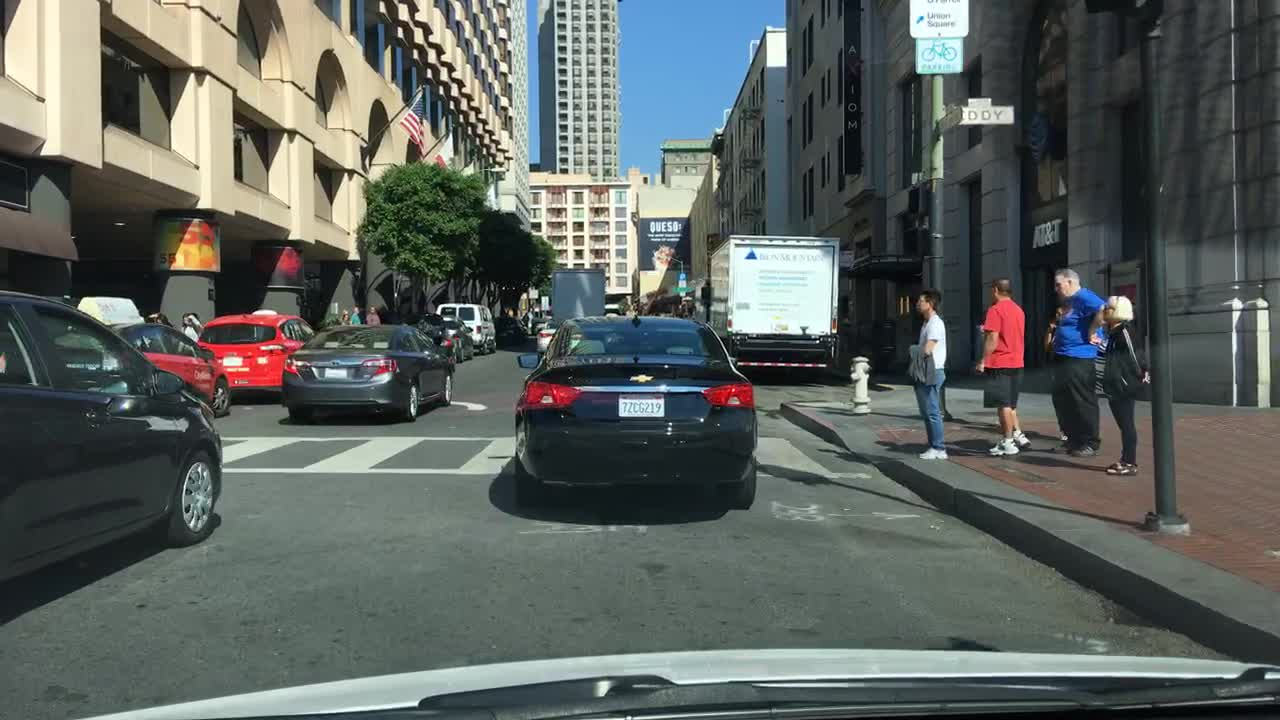car: (0, 286, 226, 610), (514, 312, 759, 512), (67, 295, 236, 415), (278, 321, 455, 421), (194, 310, 327, 396), (433, 300, 504, 359), (421, 315, 479, 364)
person: (1039, 265, 1107, 452), (975, 272, 1029, 457), (1097, 295, 1151, 478), (908, 292, 955, 461), (178, 312, 204, 343), (362, 306, 383, 328), (148, 311, 172, 326), (349, 306, 362, 328), (676, 294, 686, 314), (340, 309, 350, 326)
traffic sign: (906, 2, 970, 39), (914, 35, 963, 73), (956, 103, 1012, 127), (936, 106, 963, 132), (524, 285, 539, 299), (673, 287, 695, 294), (674, 277, 688, 287), (329, 299, 339, 312)
truck: (703, 229, 842, 377), (550, 268, 607, 325)
